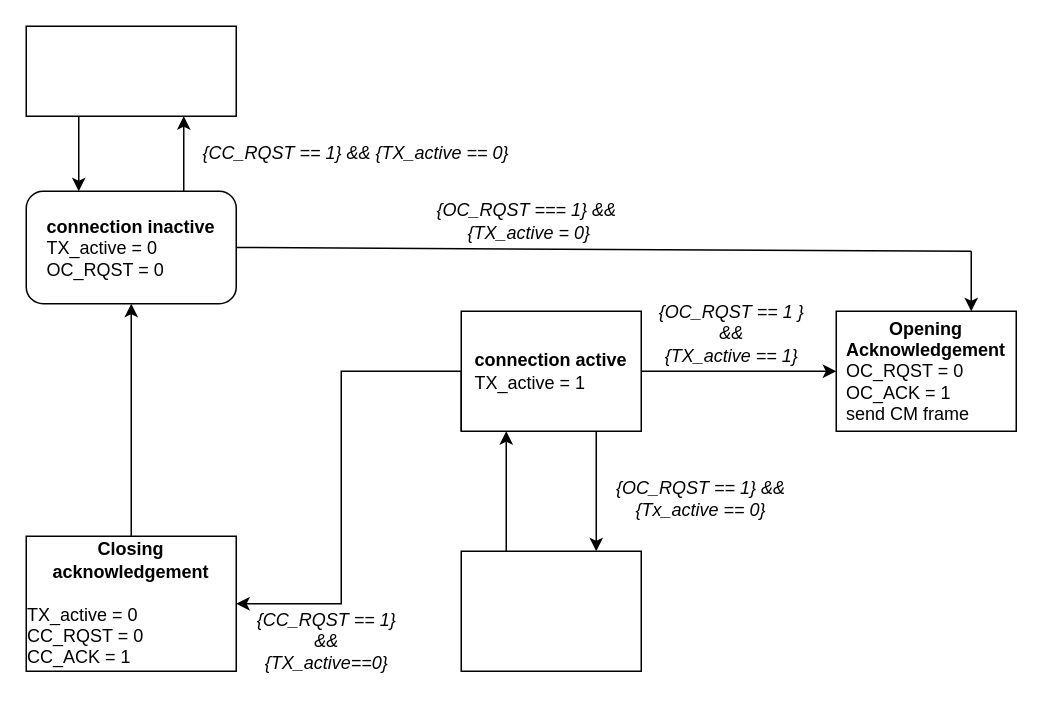
Image size: 1043x713. Some labels were removed from this diagram. The box of each missing label's shape, as (x1, y1, x2, y2) in pixels:
connection already closed NERR = 6 send error frame: (25, 25, 236, 116)
connection already open NERR = 5 send error frame: (460, 550, 641, 671)
